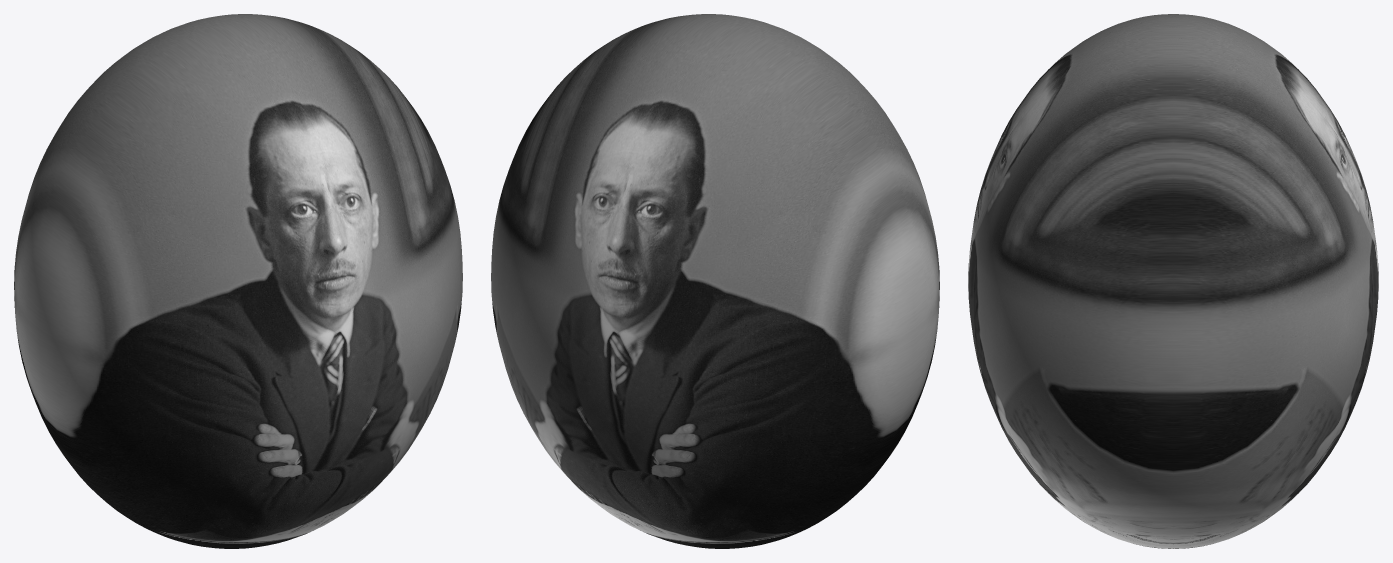
3 views of the same model, side by side, from view 1: azimuth 30°, elevation 25°; view 2: azimuth 150°, elevation 25°; view 3: azimuth 270°, elevation 25° (orthographic).
Visible parts, largest first — view 1: head; view 2: head; view 3: head.
Boxes of the visible parts, x1,y1,x2,y2 form: head: (14, 14, 462, 548); head: (491, 14, 939, 548); head: (968, 14, 1378, 548).
Size of the model in its own units: 1.66 by 2 by 1.49.
Materials: 1 (1 with a texture image).
